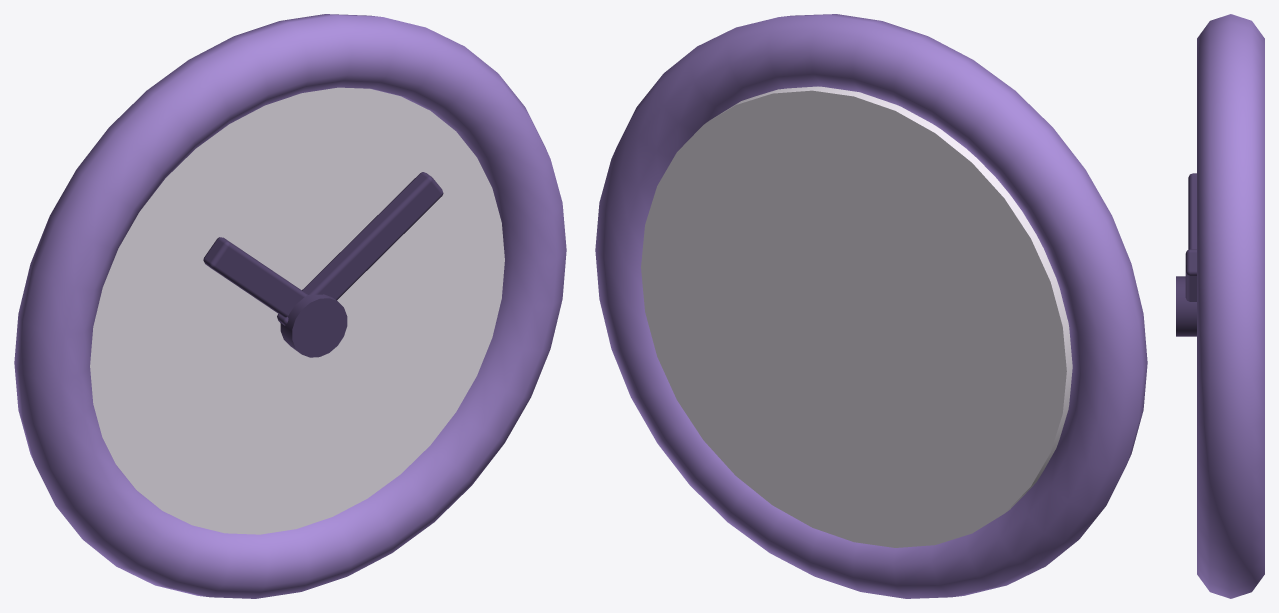
The model's file is office-clock.glb.
3 views of the same model, side by side, from view 1: azimuth 30°, elevation 25°; view 2: azimuth 150°, elevation 25°; view 3: azimuth 270°, elevation 25° (orthographic). The views are drawn at different scales.
Visible parts, largest first — view 1: face, rim, minute-hand, hour-hand, pin; view 2: face, rim; view 3: rim, pin, hour-hand, minute-hand.
Boxes of the visible parts, left/top/right/bottom form: face: left=90, top=87, right=504, bottom=534; rim: left=14, top=14, right=566, bottom=598; minute-hand: left=277, top=172, right=443, bottom=325; hour-hand: left=203, top=237, right=306, bottom=317; pin: left=280, top=294, right=347, bottom=357; face: left=641, top=86, right=1072, bottom=547; rim: left=595, top=14, right=1147, bottom=598; rim: left=1197, top=14, right=1264, bottom=598; pin: left=1176, top=276, right=1196, bottom=336; hour-hand: left=1188, top=173, right=1196, bottom=249; minute-hand: left=1185, top=249, right=1196, bottom=301.
Bounding box in the file's own units: 1.07 × 1.07 × 0.1618.
